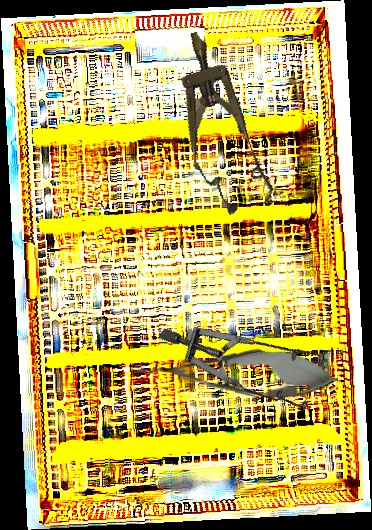Micro Scissor: (131, 343, 340, 403)
Speculum: (157, 259, 346, 453), (158, 22, 281, 221)
